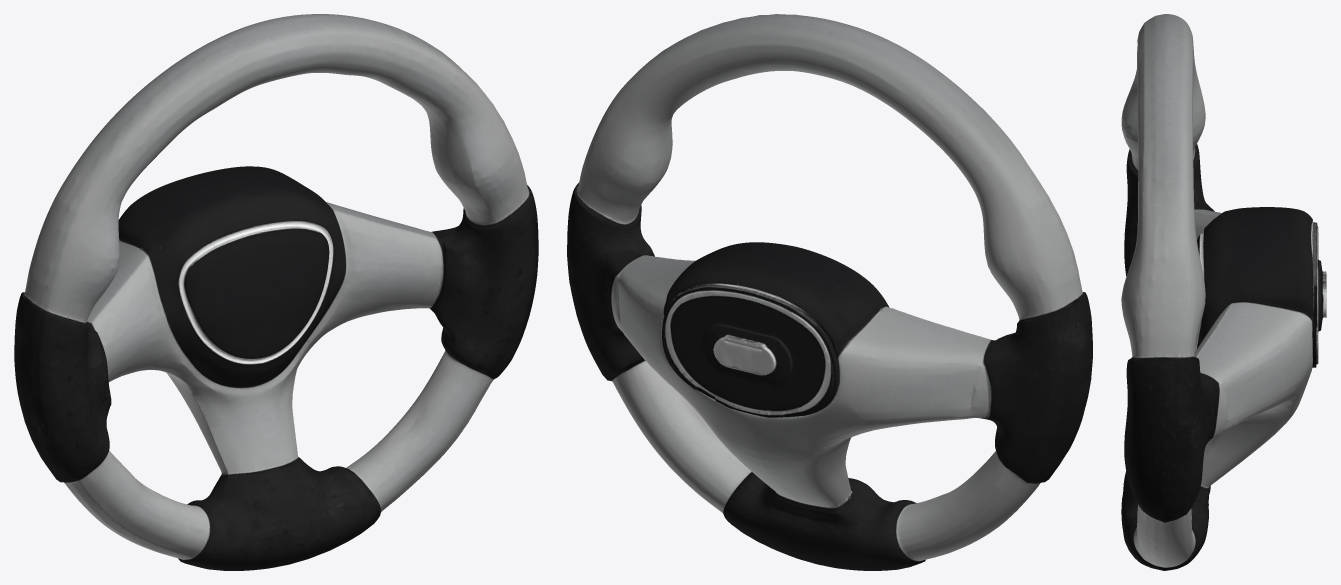
File: Meshy_AI_Three_Spoke_Sport_Ste_0602143311_texture.fbx
3 views of the same model, side by side, from view 1: azimuth 30°, elevation 25°; view 2: azimuth 150°, elevation 25°; view 3: azimuth 270°, elevation 25° (orthographic). The views are drawn at different scales.
Parts seen in each view (by area): view 1: Mesh_0; view 2: Mesh_0; view 3: Mesh_0.
Part boxes in pixels (bbox=[...]): Mesh_0: bbox=[14, 14, 538, 570]; Mesh_0: bbox=[567, 14, 1092, 570]; Mesh_0: bbox=[1121, 14, 1326, 570].
Bounding box in the file's own units: 189 × 190 × 69.15.
1 material, 1 textured.
